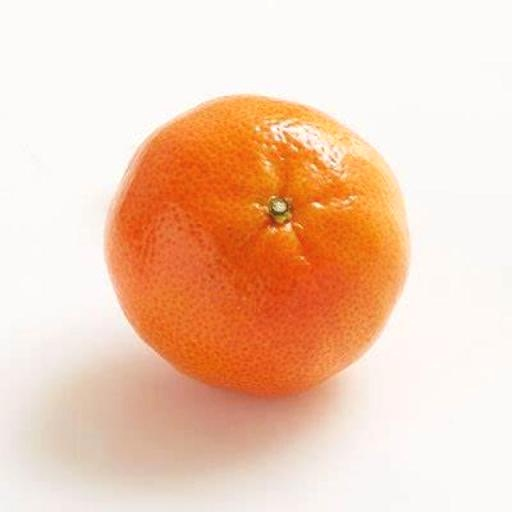fruit: (106, 96, 407, 395)
